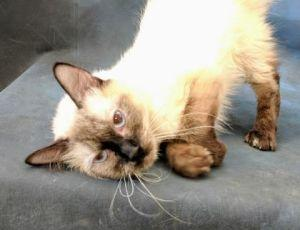siamese: (19, 55, 170, 207)
